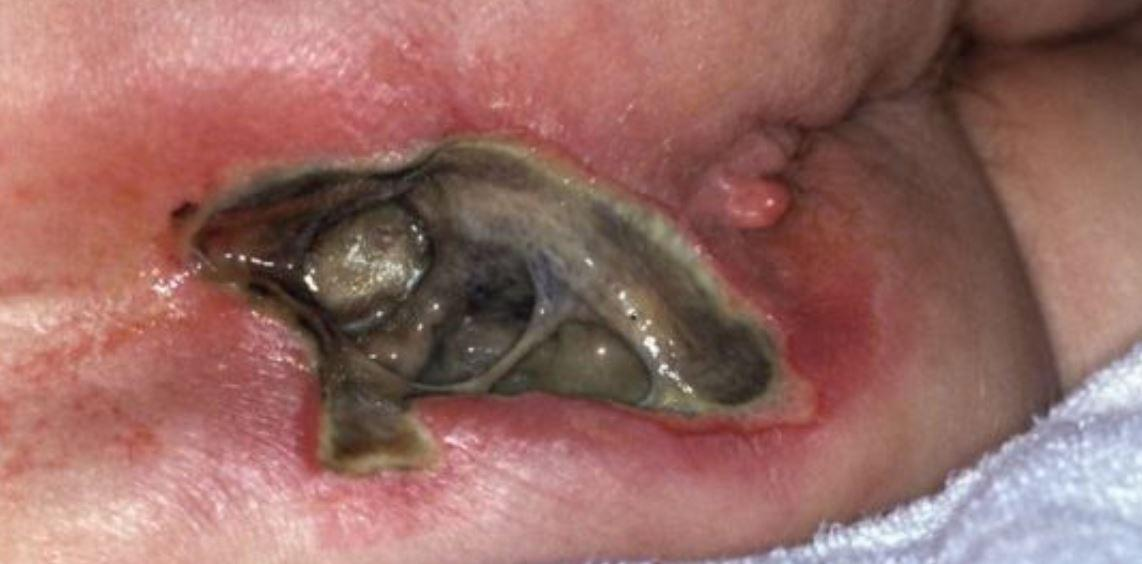Stage3: (174, 132, 847, 504)
